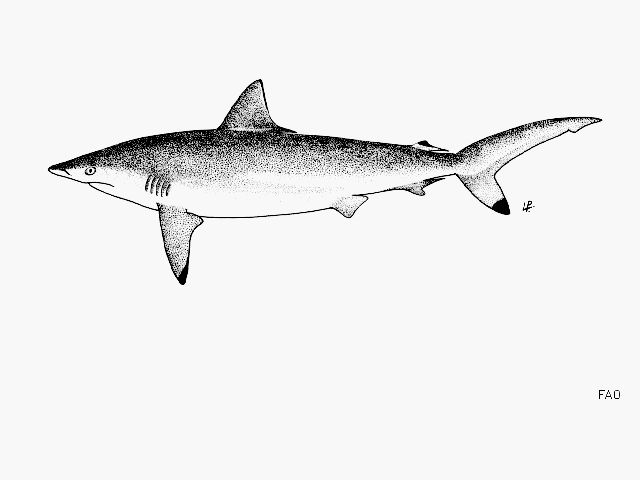fish: (47, 79, 604, 286)
